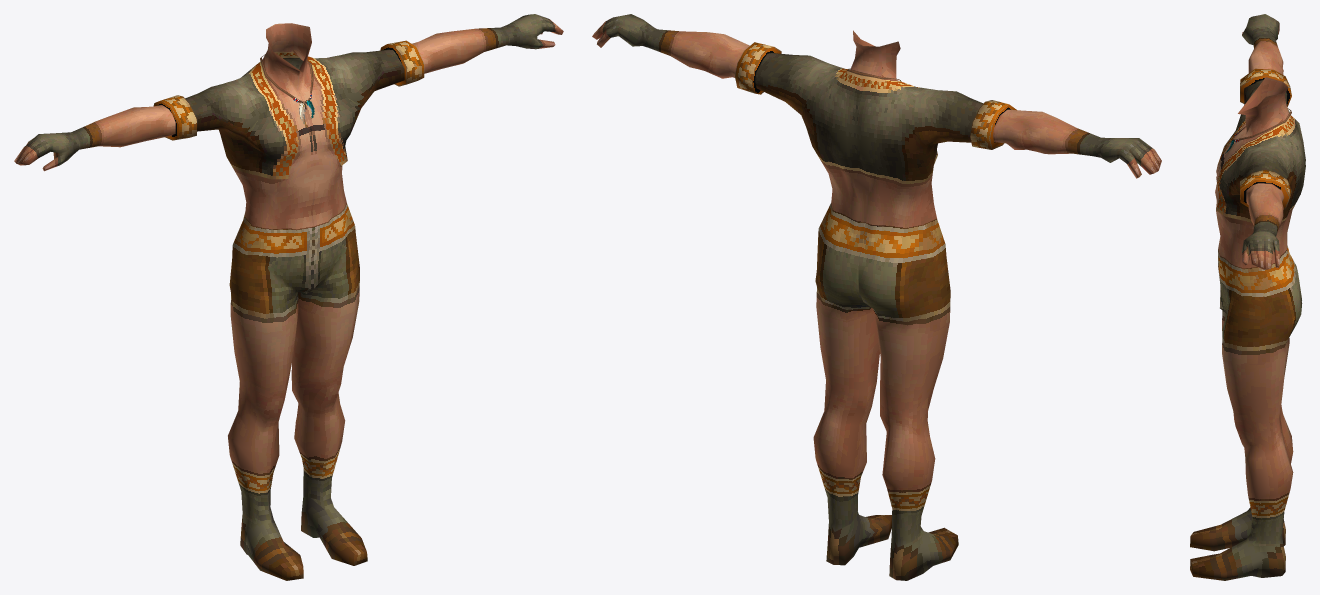
Rendered from m_body000.obj.
3 renders of one model, left to right at view 1: azimuth 30°, elevation 25°; view 2: azimuth 150°, elevation 25°; view 3: azimuth 270°, elevation 25°, orthographic. The views are drawn at different scales.
Visible parts, largest first — view 1: editpl_m-0000-35, editpl_m-0000-34, editpl_m-0000-33; view 2: editpl_m-0000-35, editpl_m-0000-34, editpl_m-0000-33; view 3: editpl_m-0000-35, editpl_m-0000-34, editpl_m-0000-33.
Boxes of the visible parts, x1,y1,x2,y2 form: editpl_m-0000-35: (228, 204, 367, 580); editpl_m-0000-34: (185, 23, 404, 229); editpl_m-0000-33: (14, 14, 563, 171); editpl_m-0000-35: (813, 203, 958, 580); editpl_m-0000-34: (755, 30, 983, 228); editpl_m-0000-33: (592, 14, 1161, 178); editpl_m-0000-35: (1190, 245, 1302, 580); editpl_m-0000-34: (1215, 77, 1305, 268); editpl_m-0000-33: (1240, 14, 1291, 269).
Size of the model in its own units: 177 by 159 by 35.38.
Materials: 3 (3 with a texture image).
